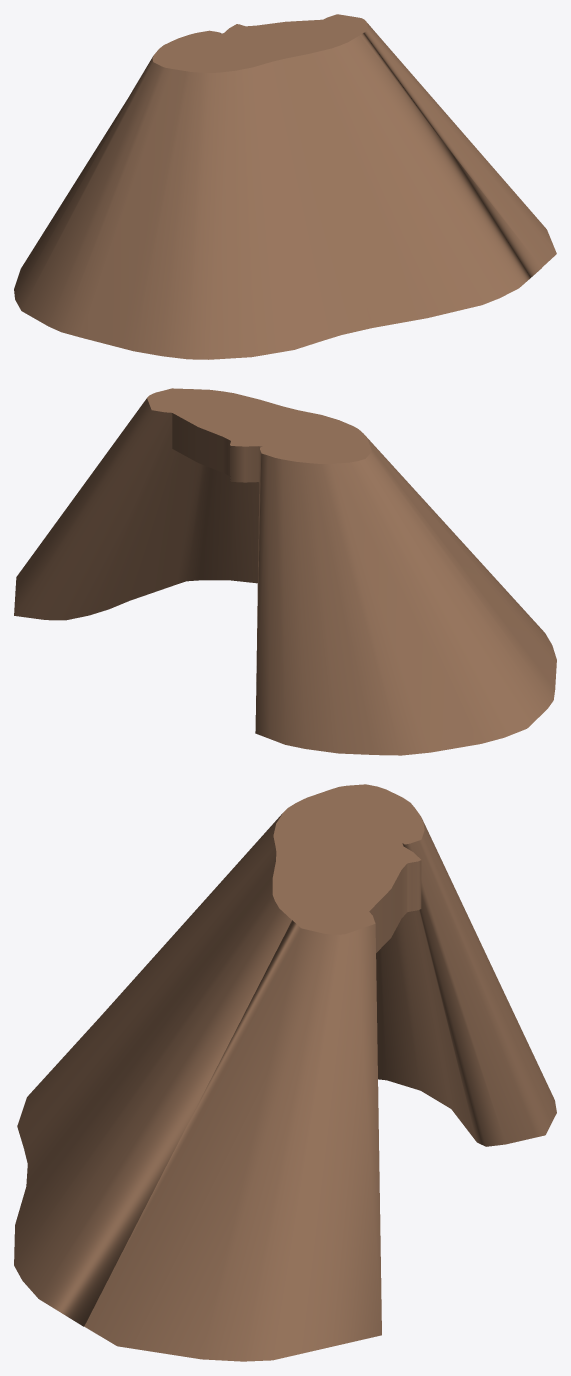
File: build10.fbx
3 views of the same model, one above another, from view 1: azimuth 30°, elevation 25°; view 2: azimuth 150°, elevation 25°; view 3: azimuth 270°, elevation 25° (orthographic). The views are drawn at different scales.
Visible parts, largest first — view 1: Group1; view 2: Group1; view 3: Group1.
Boxes of the visible parts, x1,y1,x2,y2 form: Group1: (14, 14, 556, 359); Group1: (14, 388, 556, 755); Group1: (14, 784, 556, 1361).
Bounding box in the file's own units: 18892 × 7917 × 12104.
